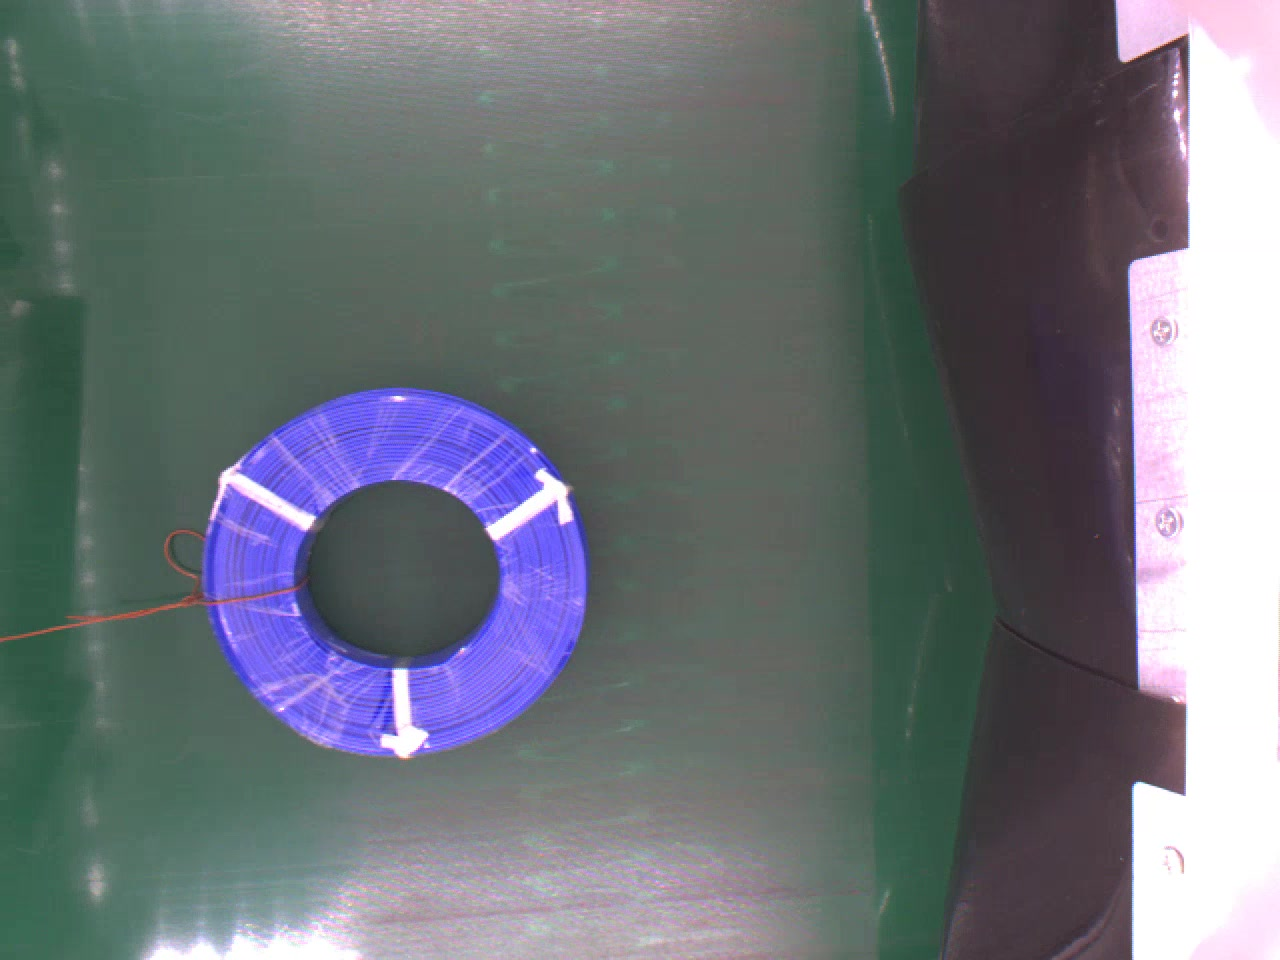blue: (202, 387, 588, 760)
